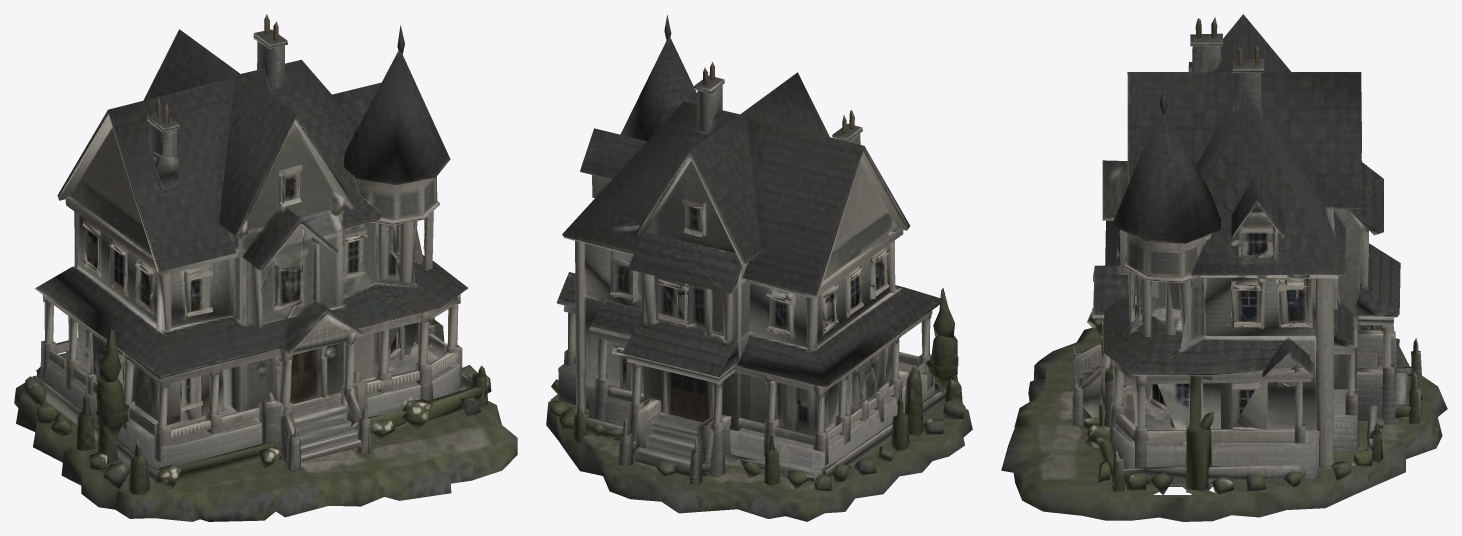
File: upper_house_2.glb
3 renders of one model, left to right at view 1: azimuth 30°, elevation 25°; view 2: azimuth 150°, elevation 25°; view 3: azimuth 270°, elevation 25°, orthographic. The views are drawn at different scales.
Parts seen in each view (by area): view 1: UpperHouse2Mesh; view 2: UpperHouse2Mesh; view 3: UpperHouse2Mesh.
Boxes of the visible parts, box(x1,y1,x2,y2) form: UpperHouse2Mesh: box(14, 14, 517, 521); UpperHouse2Mesh: box(546, 15, 972, 521); UpperHouse2Mesh: box(1001, 14, 1447, 521).
Bounding box in the file's own units: 2 × 1.98 × 2.
1 material, 1 textured.
